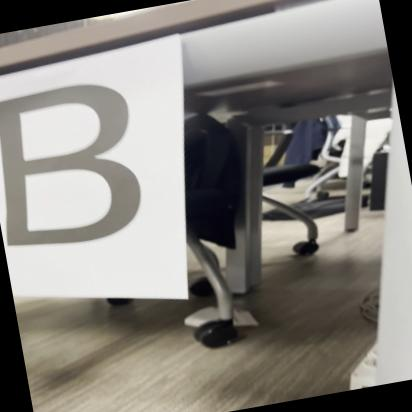seat: (0, 64, 155, 266)
